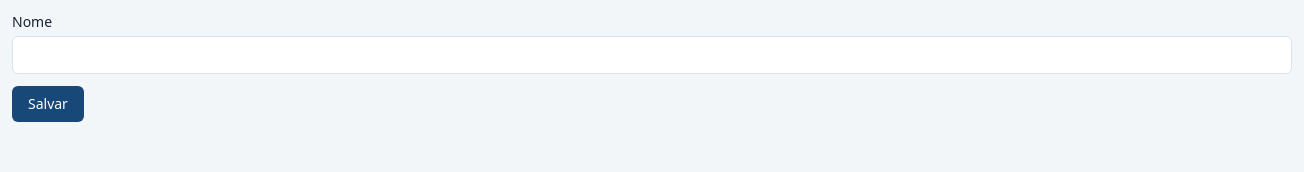
Test: mantém controles desabilitados durante o envio e confirma o sucesso
Later steps or results of the test are not shown.
In the field labelled "Nome": (652, 55) 12,36 -> 1292,74, type "Flux"
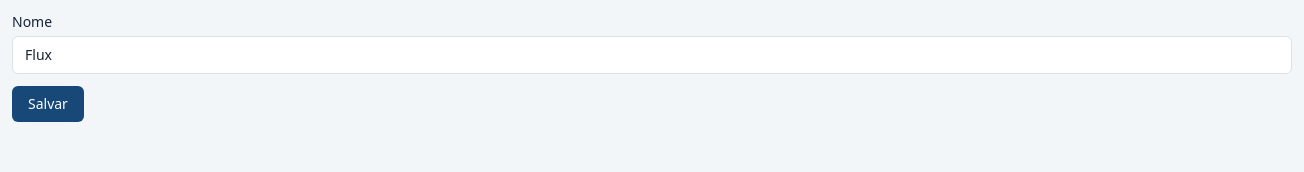
Click the button "Salvar": (48, 104) 12,86 -> 84,122
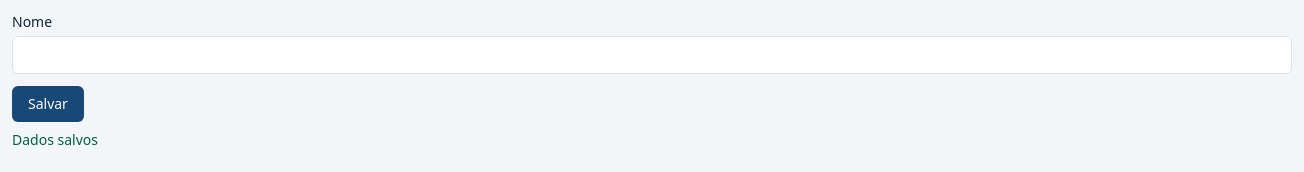
Expected: the message reads "Dados salvos", 12,130 -> 98,149
Expected: the field labelled "Nome" is empty, 12,36 -> 1292,74
